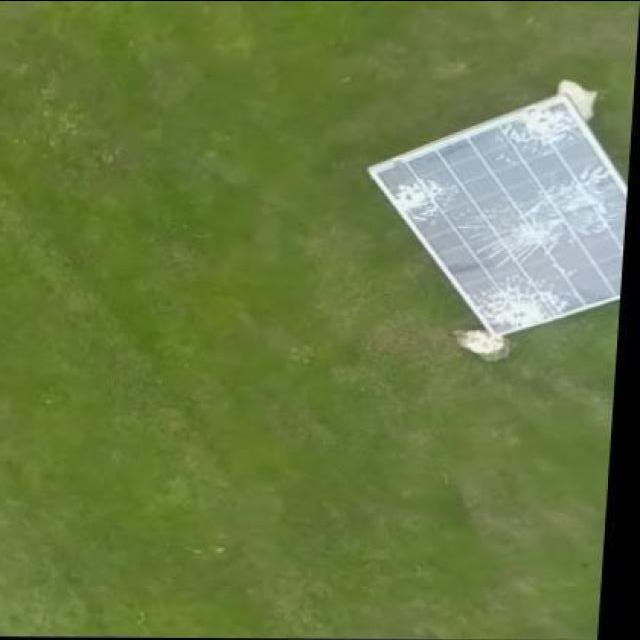cracked: (369, 98, 631, 338)
